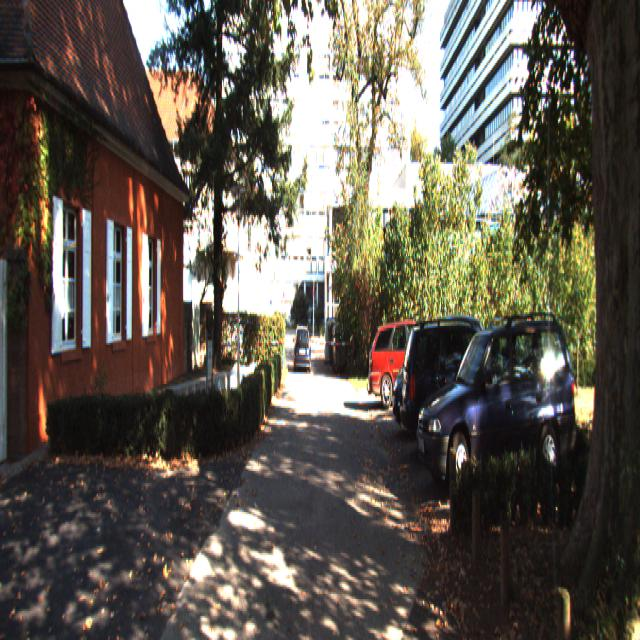Car: (411, 308, 584, 503), (399, 311, 533, 460), (392, 310, 494, 441), (370, 313, 454, 407), (295, 322, 311, 376)
